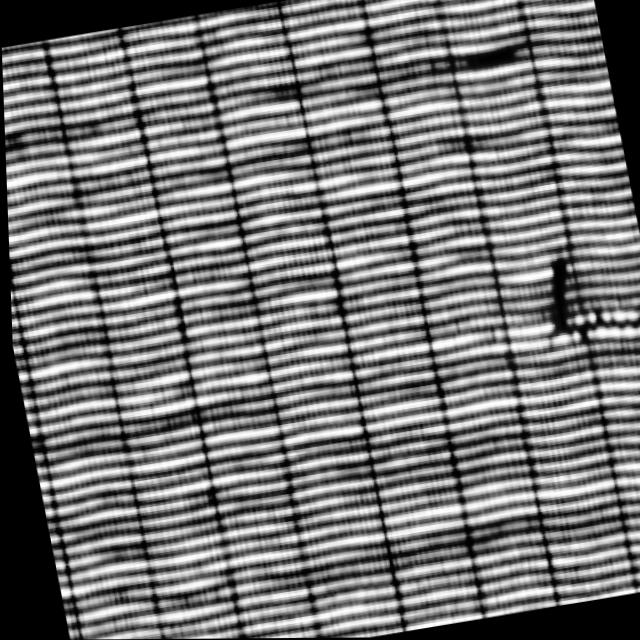Stitch: (523, 224, 640, 399)
